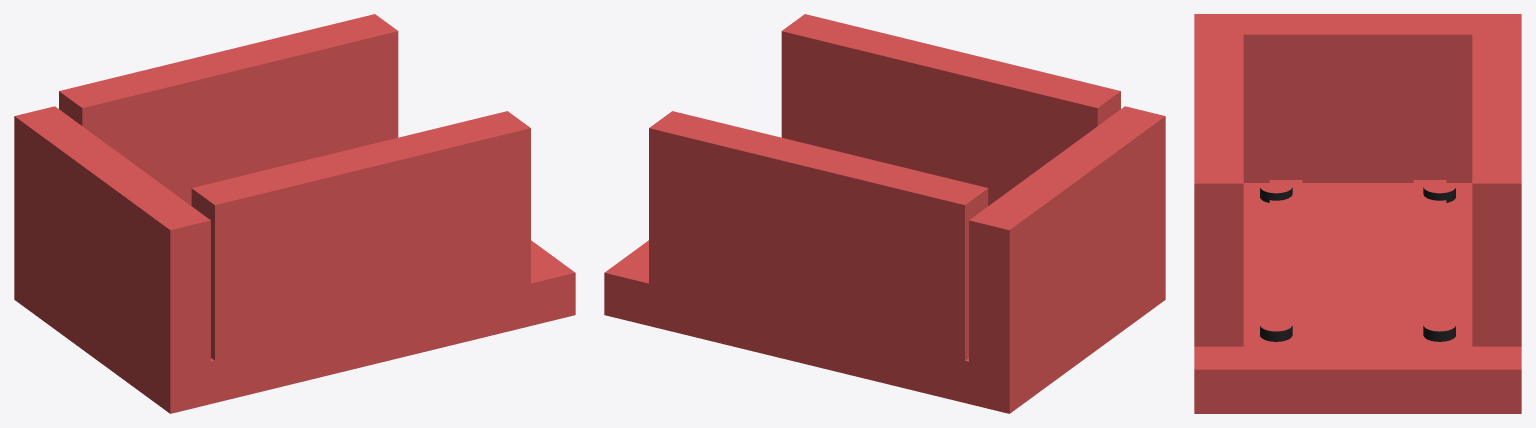
3 views of the same model, side by side, from view 1: azimuth 30°, elevation 25°; view 2: azimuth 150°, elevation 25°; view 3: azimuth 270°, elevation 25° (orthographic). The views are drawn at different scales.
Visible parts, largest first — view 1: Generated CAD model; view 2: Generated CAD model; view 3: Generated CAD model.
Part boxes in pixels (x1,y1,x2,y2): Generated CAD model: [14, 14, 575, 413]; Generated CAD model: [604, 14, 1165, 413]; Generated CAD model: [1194, 14, 1521, 413].
Size of the model in its own units: 0.3 by 0.145 by 0.2.
